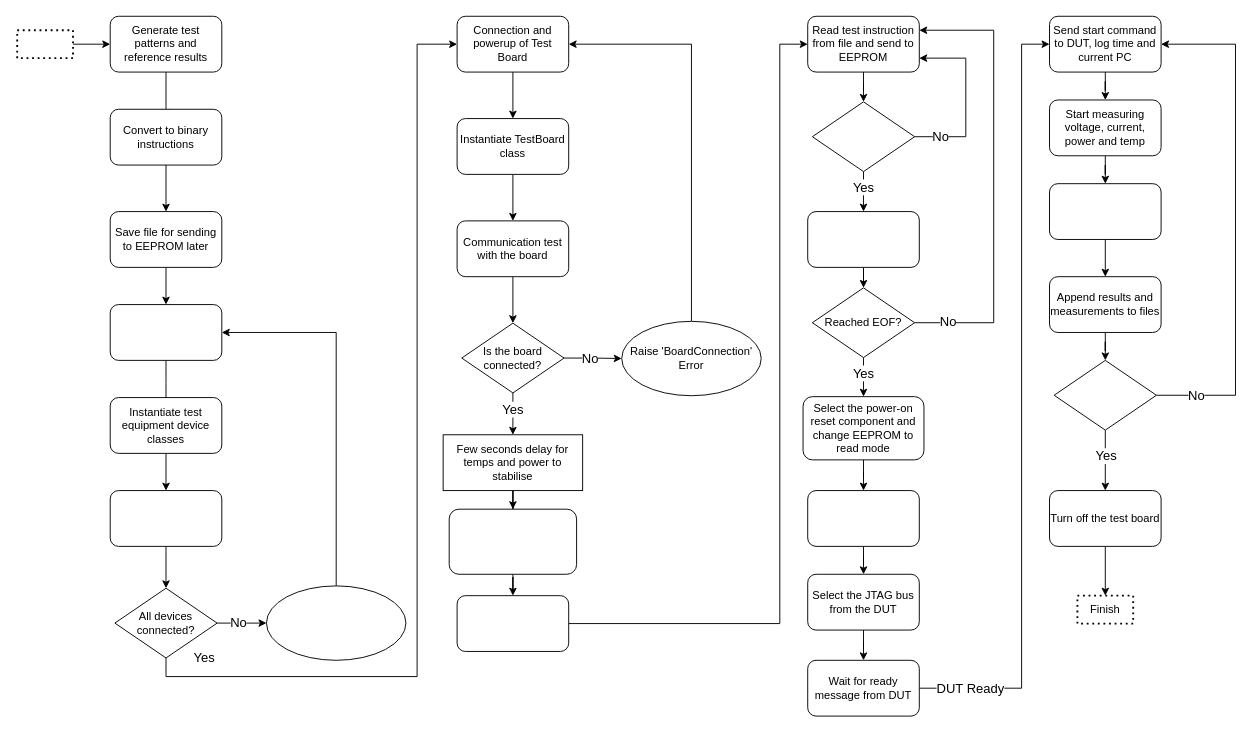
The diagram is 1259 pixels wide and 733 high, and some of its shapes have lost their labels. The centre of each missing label's shape, as x and y in pixels:
"Communication test with all devices" belongs at (165,518).
"Connection and powerup of test equipment" belongs at (165,332).
"Count clock cycles until result is received from DUT" belongs at (1105,211).
"Disable power-on reset" belongs at (863,518).
"EEPROM received?" belongs at (863,136).
"Has 'Done' risen?" belongs at (1104,394).
"Increment line" belongs at (863,239).
"Raise 'SerialDeviceConnection' Error" belongs at (336,622).
"Start" belongs at (44,44).
"Take reference measurements (idle power consumption, idle temp, etc.)" belongs at (512,541).
"Use component select method to change to EEPROM" belongs at (512,623).
